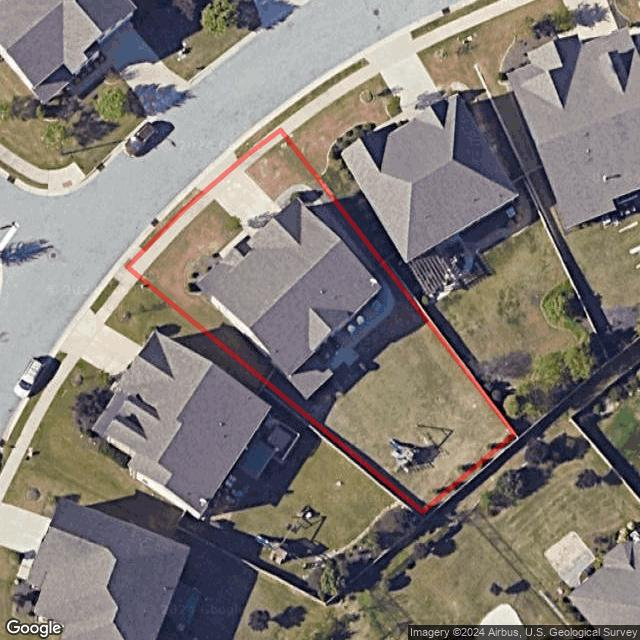Driveway: (205, 163, 285, 240)
Extra-Driveway: (195, 151, 240, 192)
Extra-Lawn: (141, 186, 202, 251), (234, 121, 277, 159)
House: (194, 198, 382, 400)
Lawn: (127, 132, 514, 511)
Other: (276, 182, 375, 271), (316, 283, 396, 370), (187, 251, 222, 297)
Sidewalk: (127, 192, 212, 278), (239, 126, 287, 170), (218, 232, 248, 259)
